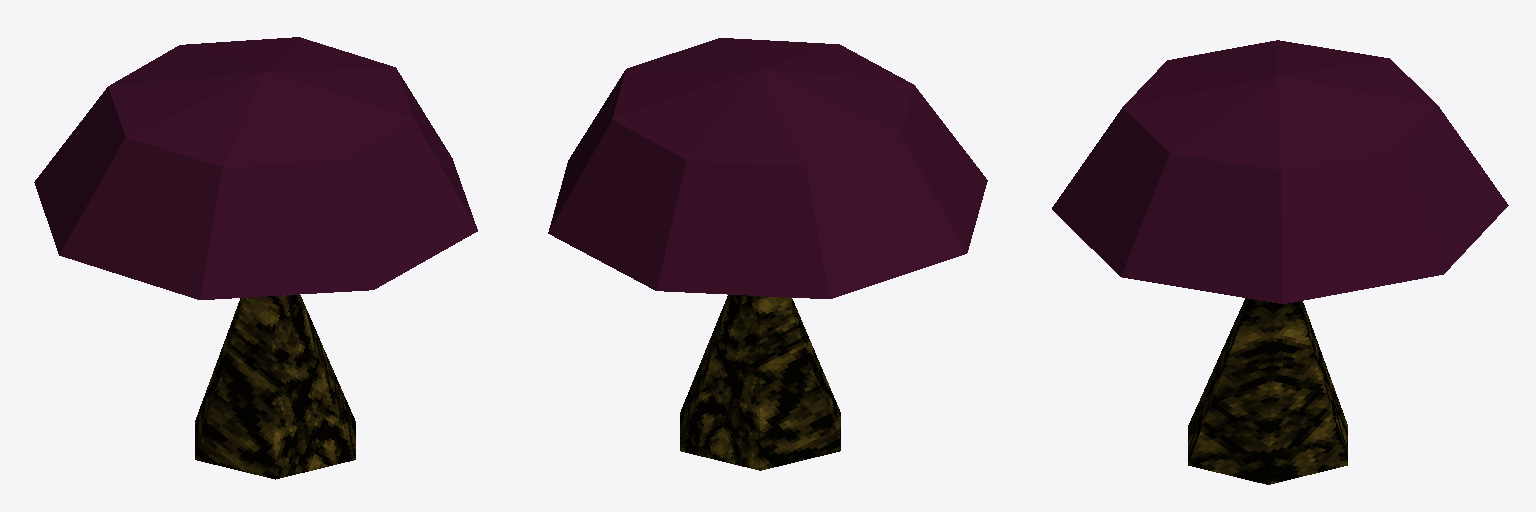
3 renders of one model, left to right at view 1: azimuth 30°, elevation 25°; view 2: azimuth 150°, elevation 25°; view 3: azimuth 270°, elevation 25°, orthographic.
Parts seen in each view (by area): view 1: Mesh1 Group1 Model, Mesh3 Group3 Model; view 2: Mesh1 Group1 Model, Mesh3 Group3 Model; view 3: Mesh1 Group1 Model, Mesh3 Group3 Model.
Boxes of the visible parts, box(x1,y1,x2,y2) form: Mesh1 Group1 Model: box(34, 37, 477, 299); Mesh3 Group3 Model: box(195, 295, 355, 479); Mesh1 Group1 Model: box(548, 38, 987, 298); Mesh3 Group3 Model: box(680, 295, 840, 470); Mesh1 Group1 Model: box(1052, 40, 1508, 303); Mesh3 Group3 Model: box(1188, 298, 1347, 484).
Size of the model in its own units: 98.97 by 87.55 by 98.96.
3 materials, 2 textured.